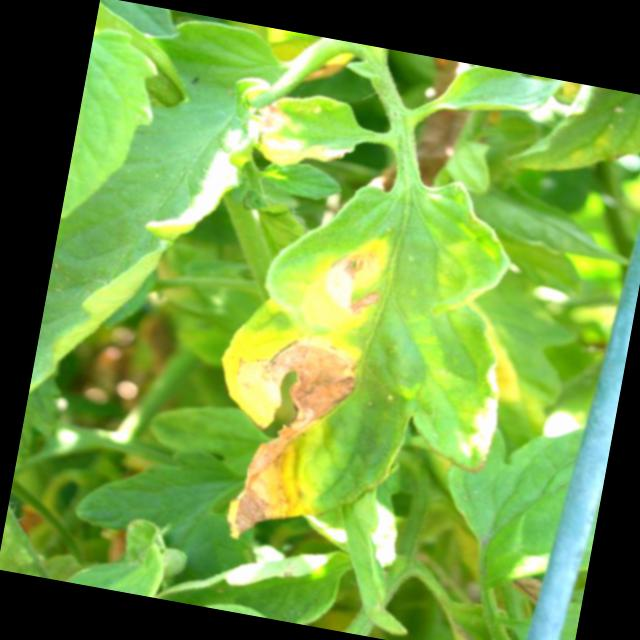Early_blight: (193, 313, 373, 556), (251, 97, 360, 179), (317, 226, 398, 323)
